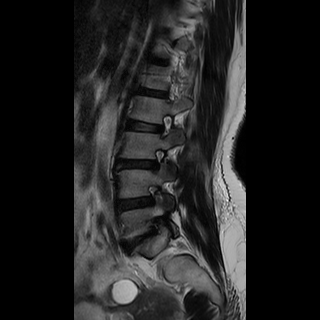RFS0: (154, 109, 175, 144)
RFS1: (145, 146, 169, 175)
RFS2: (141, 177, 162, 211)
